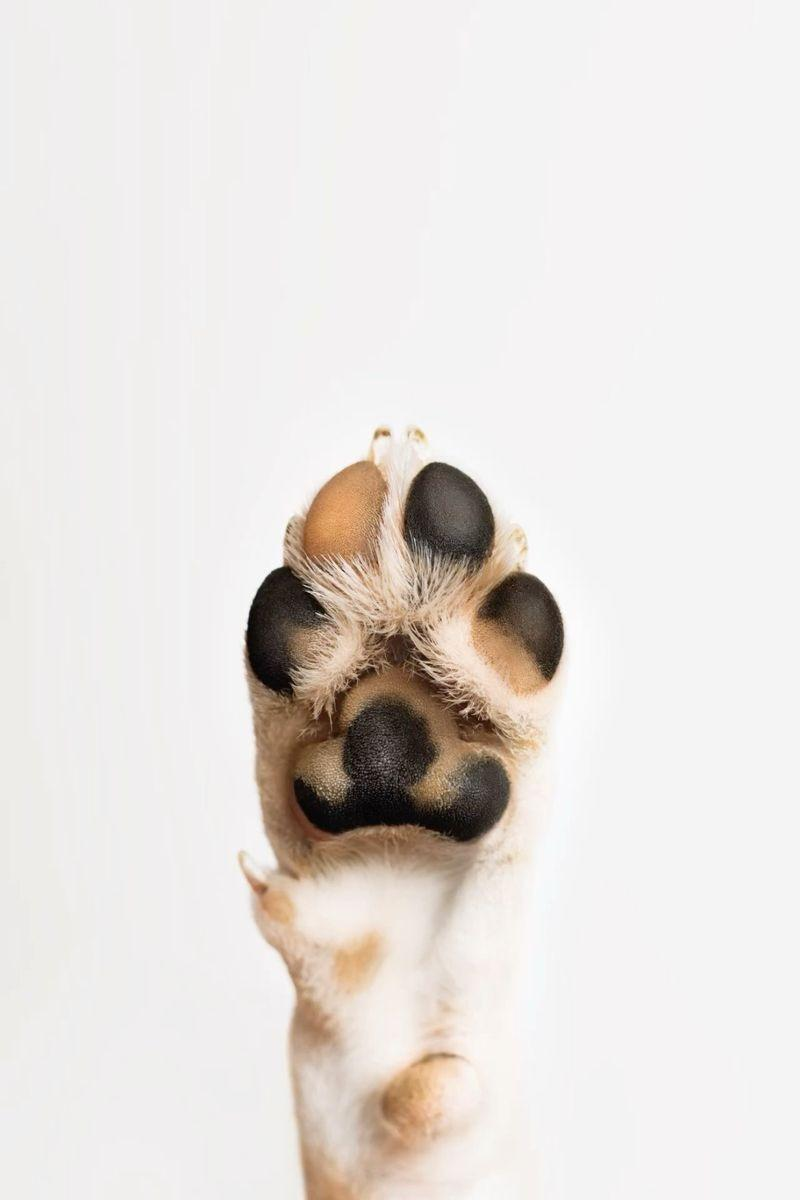adult_dog: (234, 417, 566, 1200)
